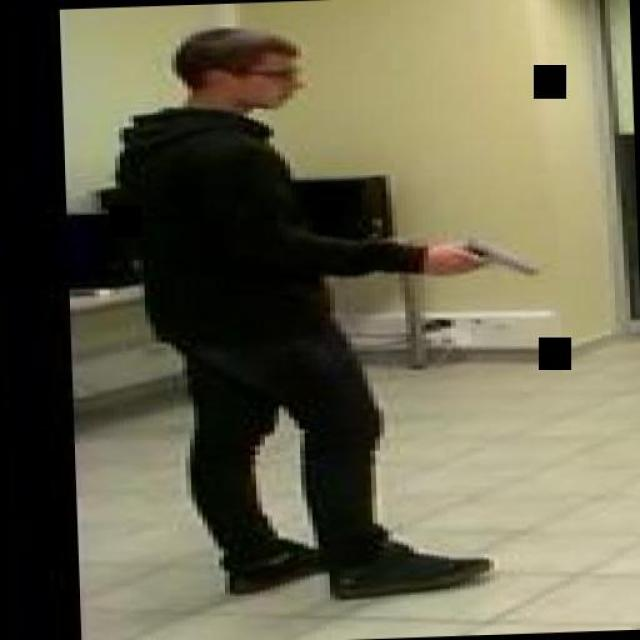gun: (432, 228, 538, 276)
